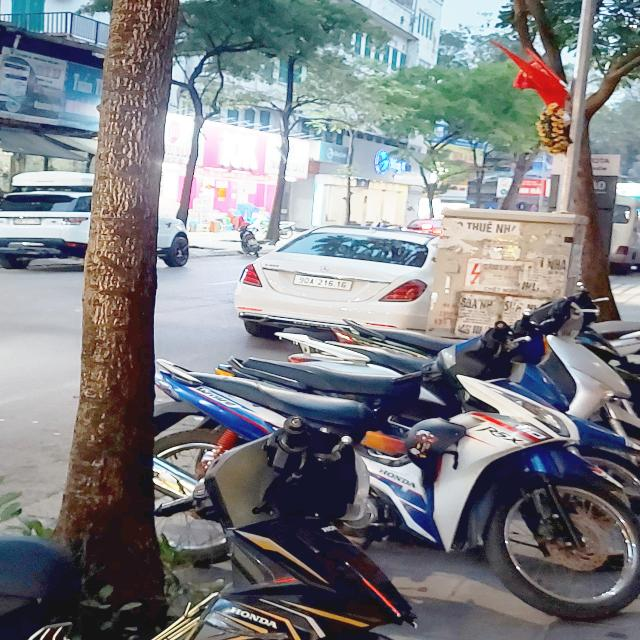license_plate: (293, 273, 358, 293)
